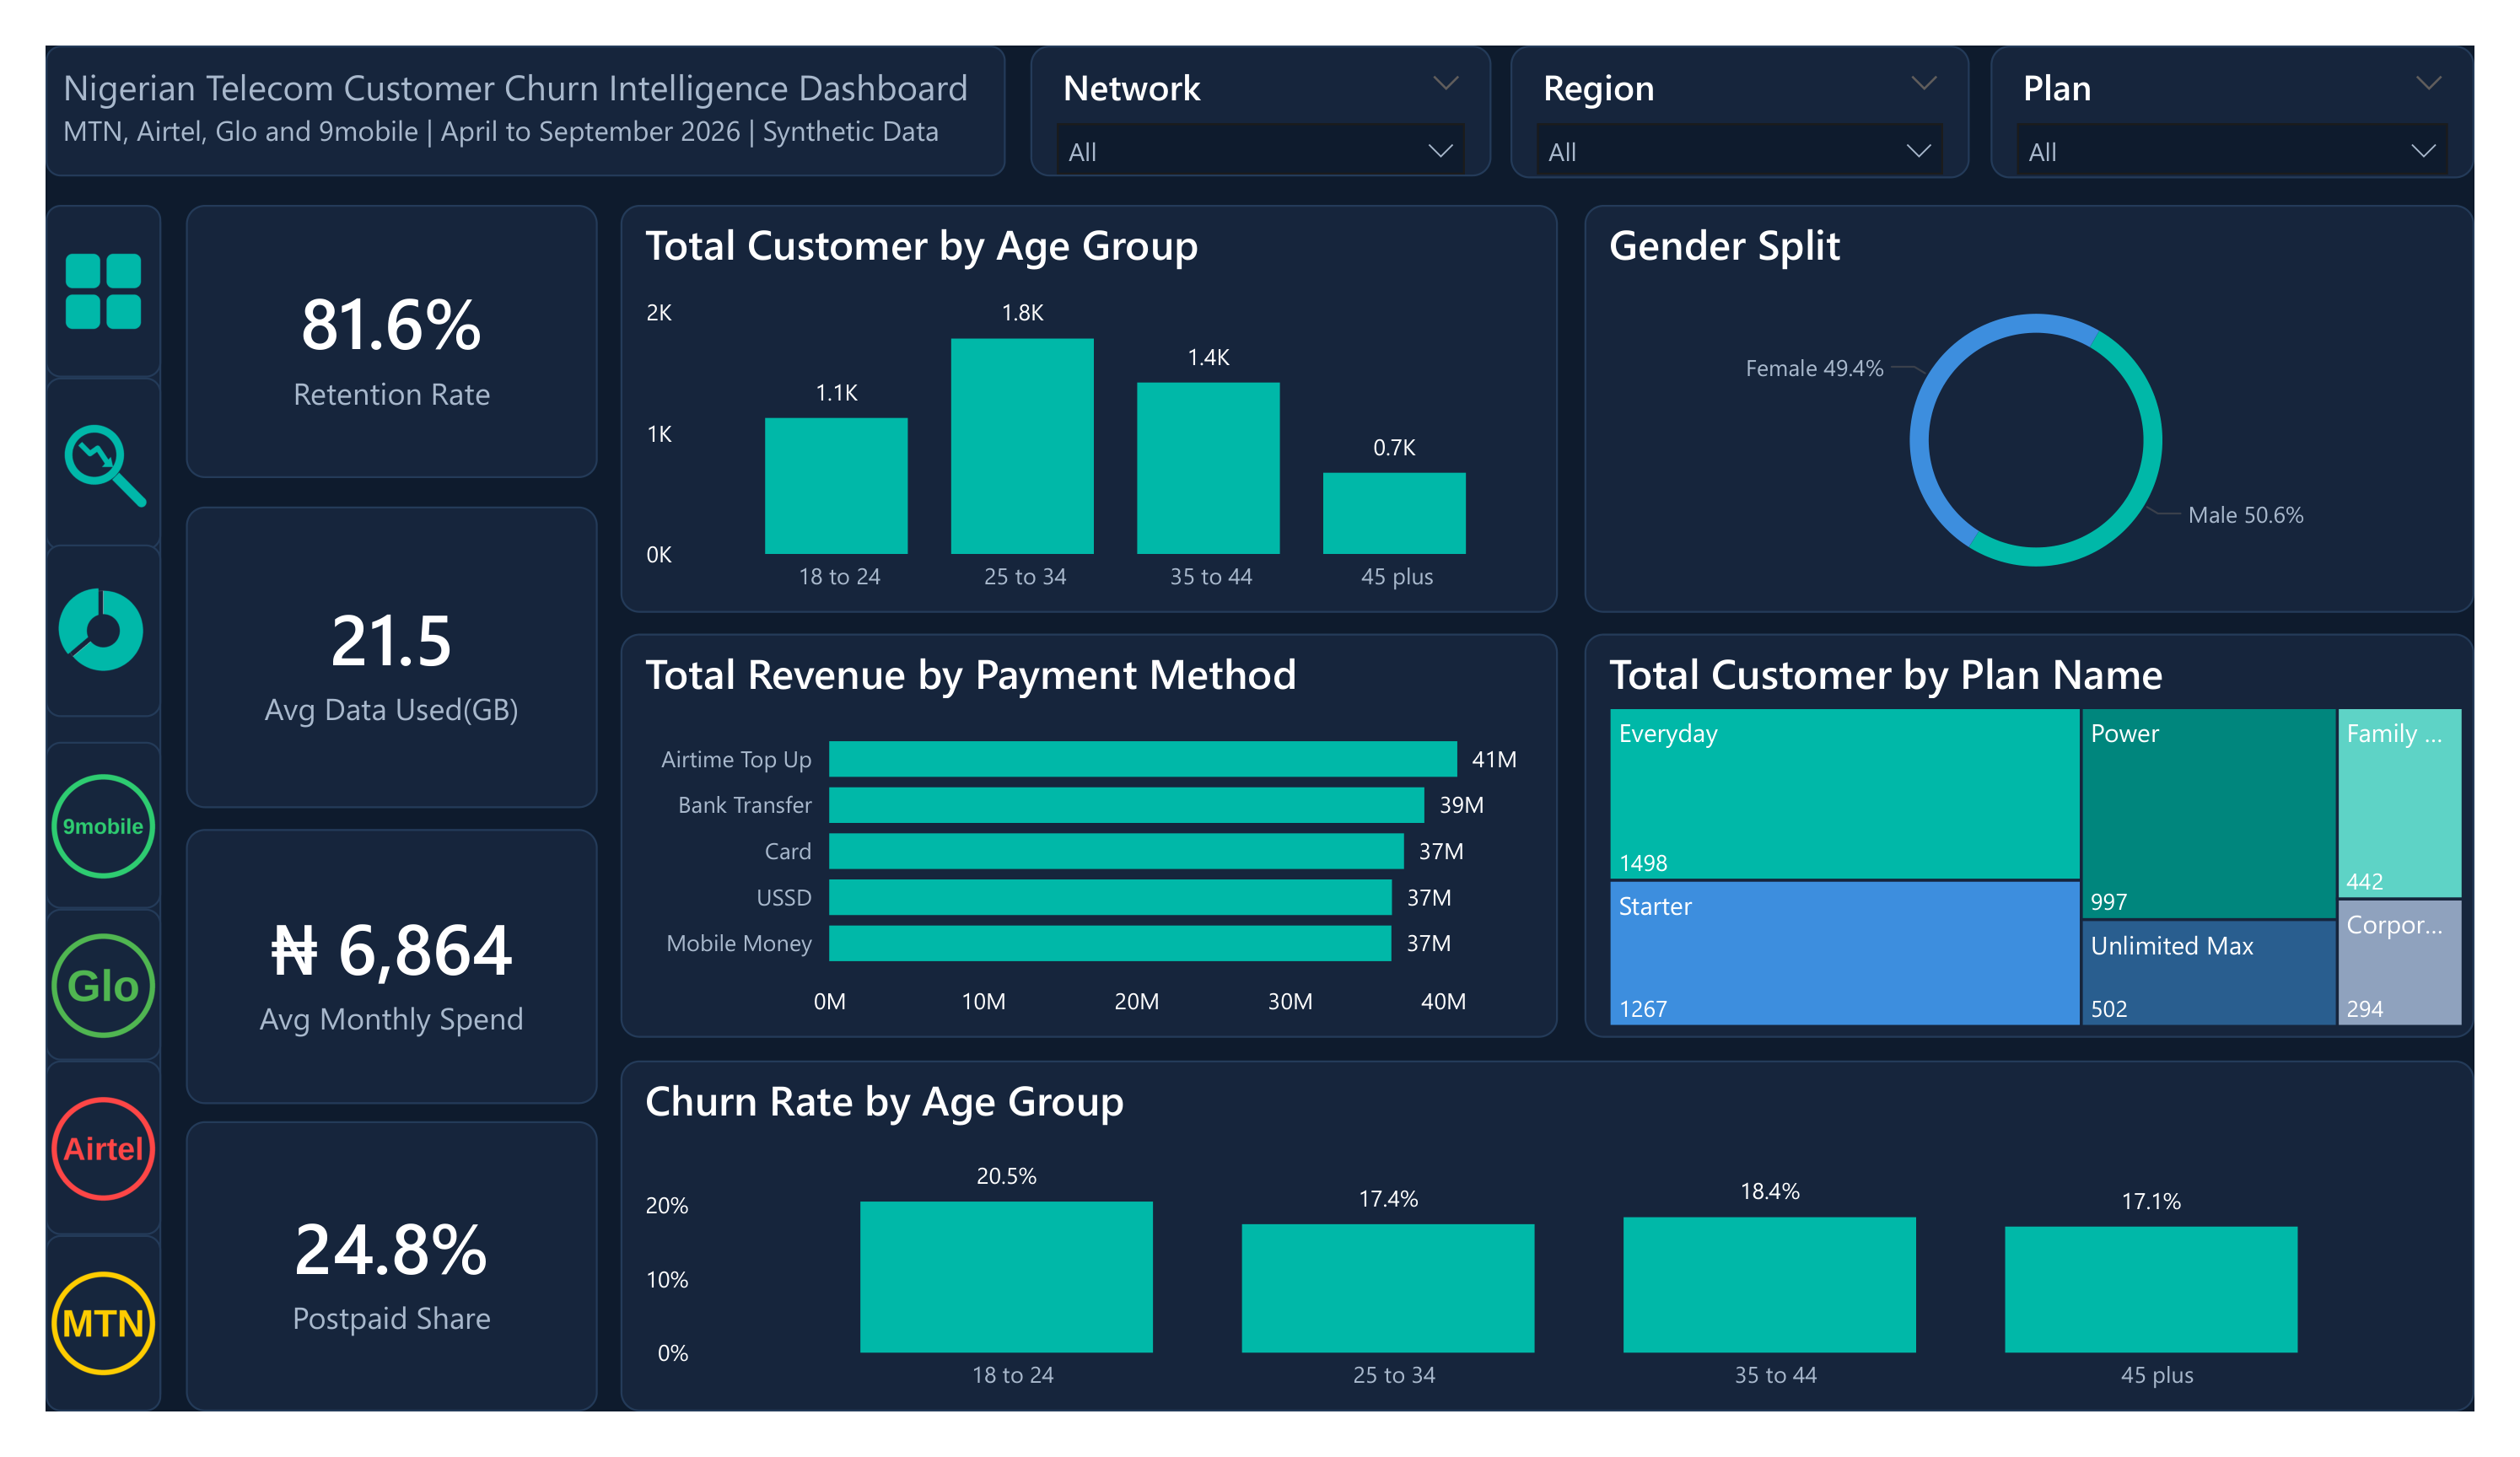

This screenshot's page, from the dashboard's own definition file:
{"tool":"powerbi","page":{"name":"Customer Segment","canvas":[1280,720],"ordinal":2},"visuals":[{"type":"textbox","box":[0,0,506,69.4],"z":0},{"type":"slicer","fields":{"Values":["Dim_Network.Network_Name"]},"box":[519,0,242.9,69.4],"z":1000},{"type":"slicer","fields":{"Values":["Dim_Region.Zone"]},"box":[771.6,0,242.6,69.7],"z":2000},{"type":"slicer","fields":{"Values":["Dim_Plan.Plan_Name"]},"box":[1024.5,0,255.5,69.7],"z":3000},{"type":"textbox","box":[0,83.9,60.7,636.1],"z":4000},{"type":"card","fields":{"Values":["_Measures.Retention Rate"]},"box":[73.7,83.9,216.9,144.6],"z":5000},{"type":"card","fields":{"Values":["_Measures.Avg Data Used(GB)"]},"box":[73.7,242.9,216.9,159],"z":6000},{"type":"card","fields":{"Values":["_Measures.Avg Monthly Spend"]},"box":[73.7,413.5,216.9,144.6],"z":7000},{"type":"card","fields":{"Values":["_Measures.Postpaid Share"]},"box":[73.7,566.7,216.9,153.3],"z":8000},{"type":"columnChart","title":"Total Customer by Age Group","fields":{"Category":["Dim_Customer.Age_Group"],"Y":["_Measures.Total Customer"]},"box":[302.8,84,494.1,214.7],"z":9000},{"type":"donutChart","title":"Gender Split","fields":{"Category":["Dim_Customer.Gender"],"Y":["_Measures.Total Customer"]},"box":[810.7,84,469.3,214.7],"z":10000},{"type":"clusteredBarChart","title":"Total Revenue by Payment Method","fields":{"Y":["_Measures.Total Revenue"],"Category":["Dim_Customer.Payment_Method"]},"box":[302.8,309.7,494.1,213.3],"z":11000},{"type":"treemap","title":"Total Customer by Plan Name","fields":{"Values":["_Measures.Total Customer"],"Group":["Dim_Plan.Plan_Name"]},"box":[810.7,309.7,469.3,213.3],"z":12000},{"type":"columnChart","title":"Churn Rate by Age Group","fields":{"Category":["Dim_Customer.Age_Group"],"Y":["_Measures.Churn Rate"]},"box":[302.8,535.4,977.2,184.4],"z":13000},{"type":"image","box":[0,83.9,60.7,91.1],"z":14000},{"type":"image","box":[0,174.9,60.7,91.1],"z":15000},{"type":"image","box":[0,263.1,60.7,91.1],"z":16000},{"type":"image","box":[0,367.2,60.7,88.2],"z":17000},{"type":"image","box":[0,455.4,60.7,79.5],"z":18000},{"type":"image","box":[0,534.9,60.7,92.5],"z":19000},{"type":"image","box":[0,627.5,60.7,92.5],"z":20000}]}

Visuals, with their boxes on the page's 1280x720 design canvas (x1, y1, x2, y2). These are canvas units, not pixel positions in the 2520x1457 screenshot, which may show the page scaled, cropped or inside an application window:
textbox: [left=0, top=0, right=506, bottom=69]
slicer - Dim_Network.Network_Name: [left=519, top=0, right=762, bottom=69]
slicer - Dim_Region.Zone: [left=772, top=0, right=1014, bottom=70]
slicer - Dim_Plan.Plan_Name: [left=1024, top=0, right=1280, bottom=70]
textbox: [left=0, top=84, right=61, bottom=720]
card - _Measures.Retention Rate: [left=74, top=84, right=291, bottom=228]
card - _Measures.Avg Data Used(GB): [left=74, top=243, right=291, bottom=402]
card - _Measures.Avg Monthly Spend: [left=74, top=414, right=291, bottom=558]
card - _Measures.Postpaid Share: [left=74, top=567, right=291, bottom=720]
"Total Customer by Age Group" columnChart: [left=303, top=84, right=797, bottom=299]
"Gender Split" donutChart: [left=811, top=84, right=1280, bottom=299]
"Total Revenue by Payment Method" clusteredBarChart: [left=303, top=310, right=797, bottom=523]
"Total Customer by Plan Name" treemap: [left=811, top=310, right=1280, bottom=523]
"Churn Rate by Age Group" columnChart: [left=303, top=535, right=1280, bottom=720]
image: [left=0, top=84, right=61, bottom=175]
image: [left=0, top=175, right=61, bottom=266]
image: [left=0, top=263, right=61, bottom=354]
image: [left=0, top=367, right=61, bottom=455]
image: [left=0, top=455, right=61, bottom=535]
image: [left=0, top=535, right=61, bottom=627]
image: [left=0, top=628, right=61, bottom=720]
